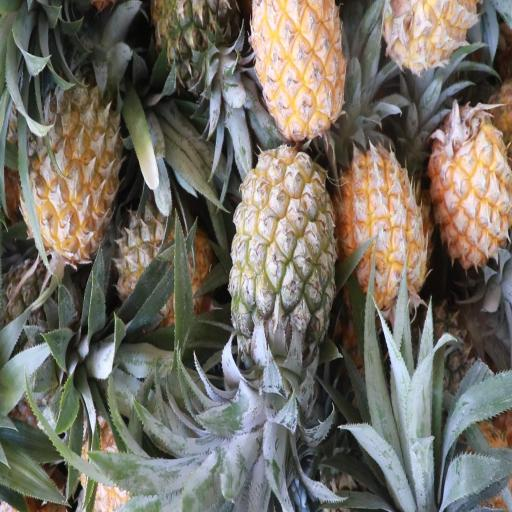------------------------------: (229, 146, 335, 366), (117, 197, 212, 324)
Pineapple - v8 v1: (21, 77, 117, 256), (430, 102, 512, 270), (341, 143, 426, 303), (255, 0, 350, 136)
